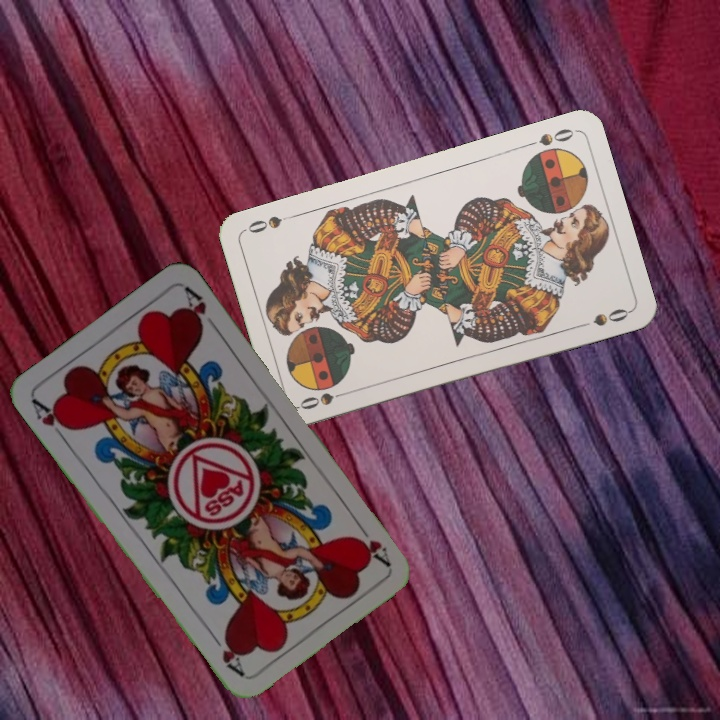HA: (28, 395, 74, 445), (350, 517, 393, 569)
SO: (520, 124, 577, 150), (295, 387, 353, 412)
